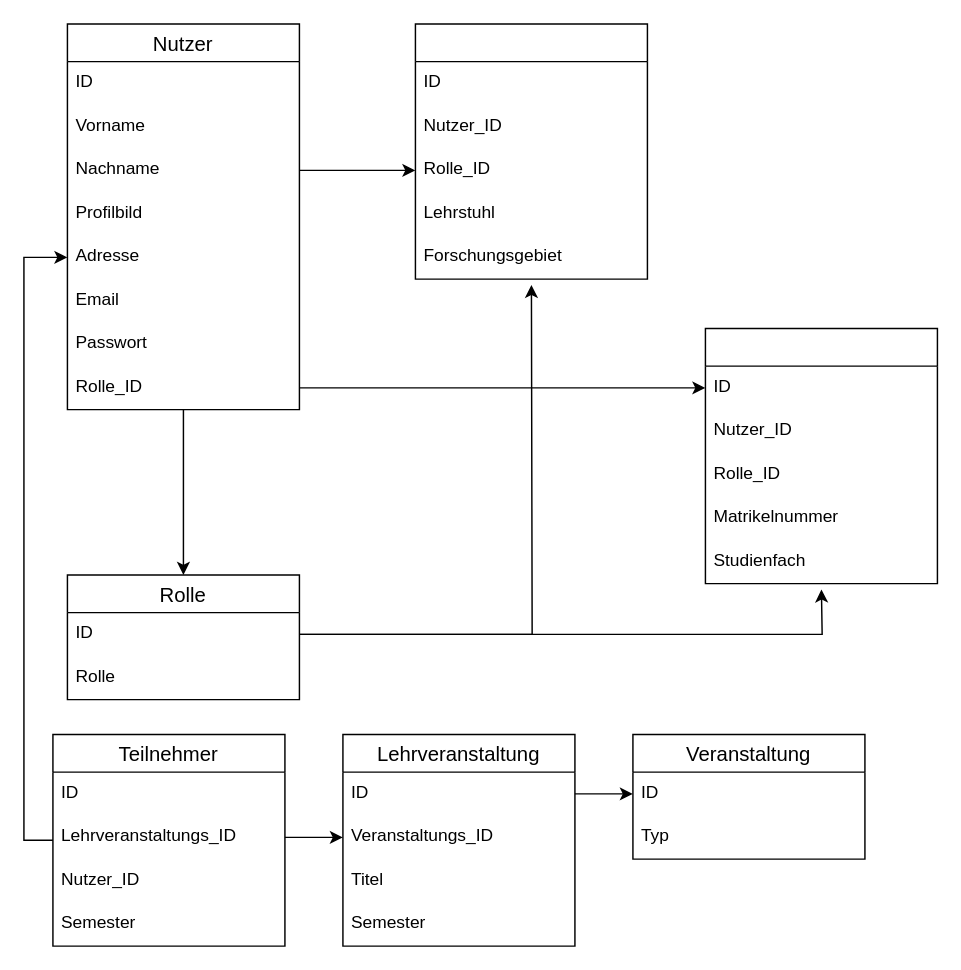
Some shapes in this 961 by 970 pixel diagram are drawn without their labels. Here are the shapes that lost their labels. From the top down, the box of each, then its label:
(414, 22, 647, 279): Lehrende
(704, 327, 937, 584): Student
